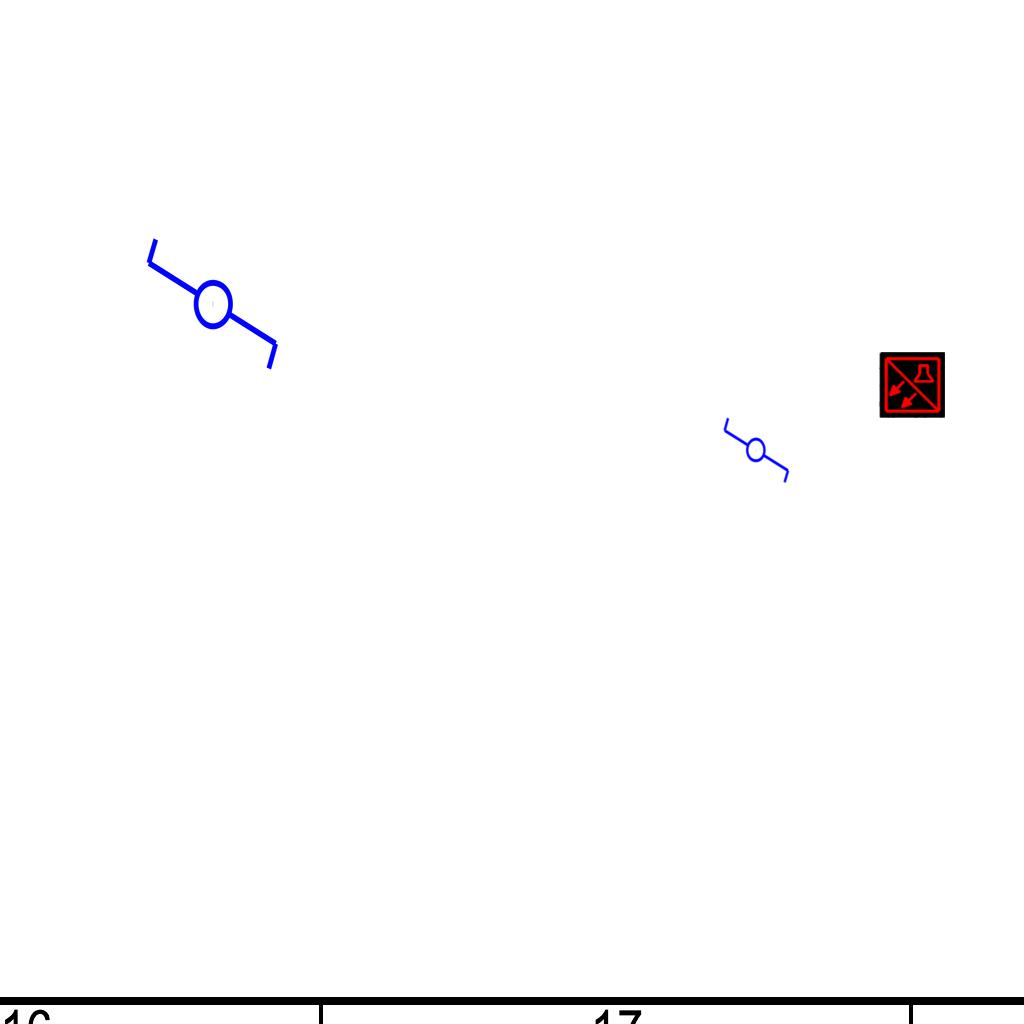OKW_Multisensormelder_(Kombination_optischer_Rauch-Kahlenmonoxid_Waerme-Melder): (879, 352, 945, 418)
Wechselschalter: (139, 234, 283, 391), (721, 407, 793, 485)
